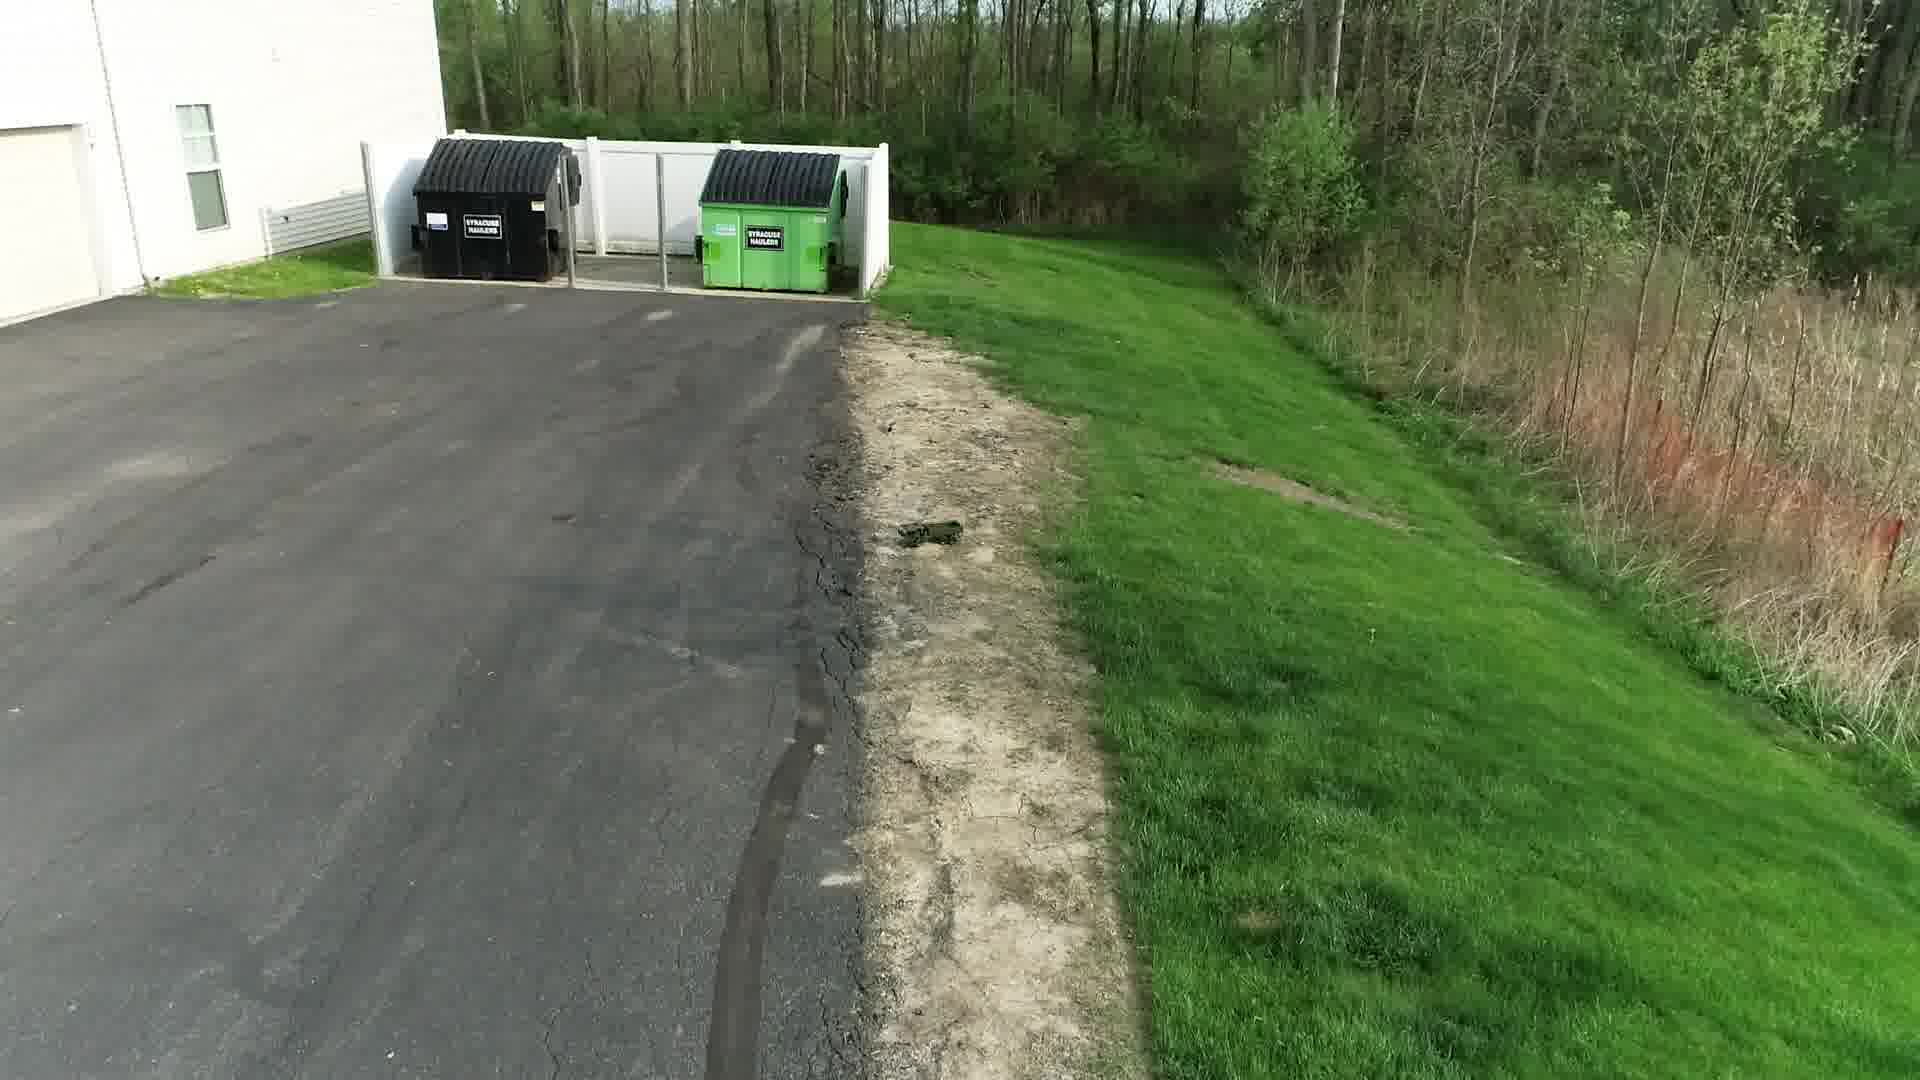transporter9: (891, 518, 967, 549)
